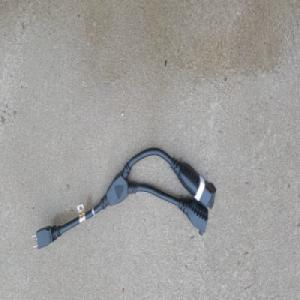Wire: (30, 146, 217, 252)
